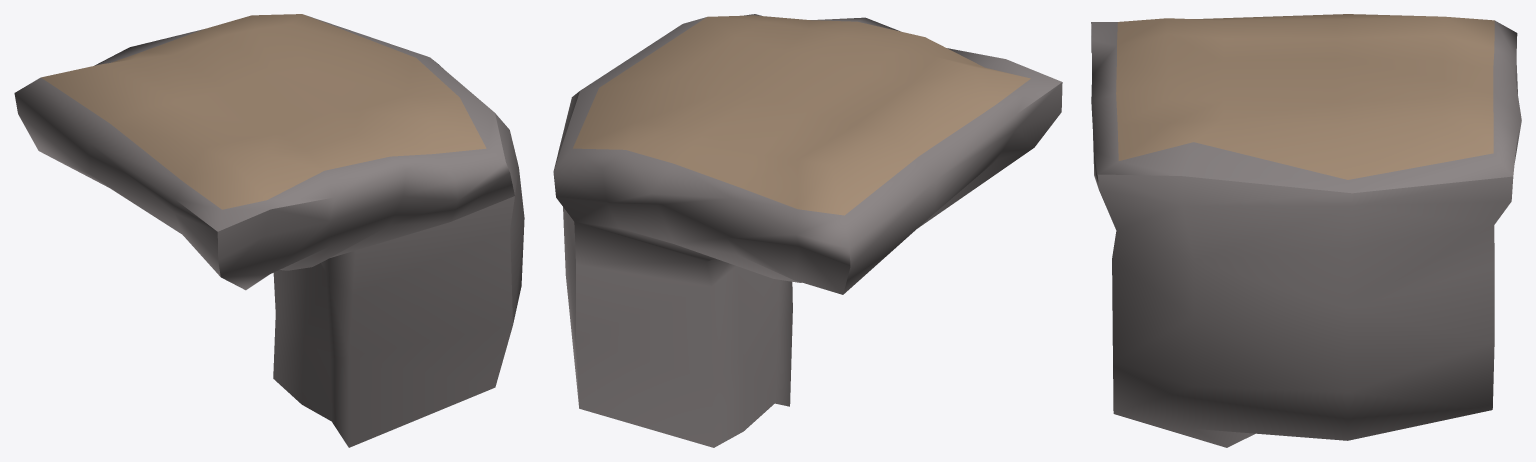
The model's file is Berg_14.fbx.
3 renders of one model, left to right at view 1: azimuth 30°, elevation 25°; view 2: azimuth 150°, elevation 25°; view 3: azimuth 270°, elevation 25°, orthographic. The views are drawn at different scales.
Visible parts, largest first — view 1: Berg_14; view 2: Berg_14; view 3: Berg_14.
Part boxes in pixels (box(x1,y1,x2,y2)): Berg_14: box(14, 14, 524, 447); Berg_14: box(553, 14, 1062, 447); Berg_14: box(1091, 14, 1521, 447).
Size of the model in its own units: 3205 by 2908 by 3168.
